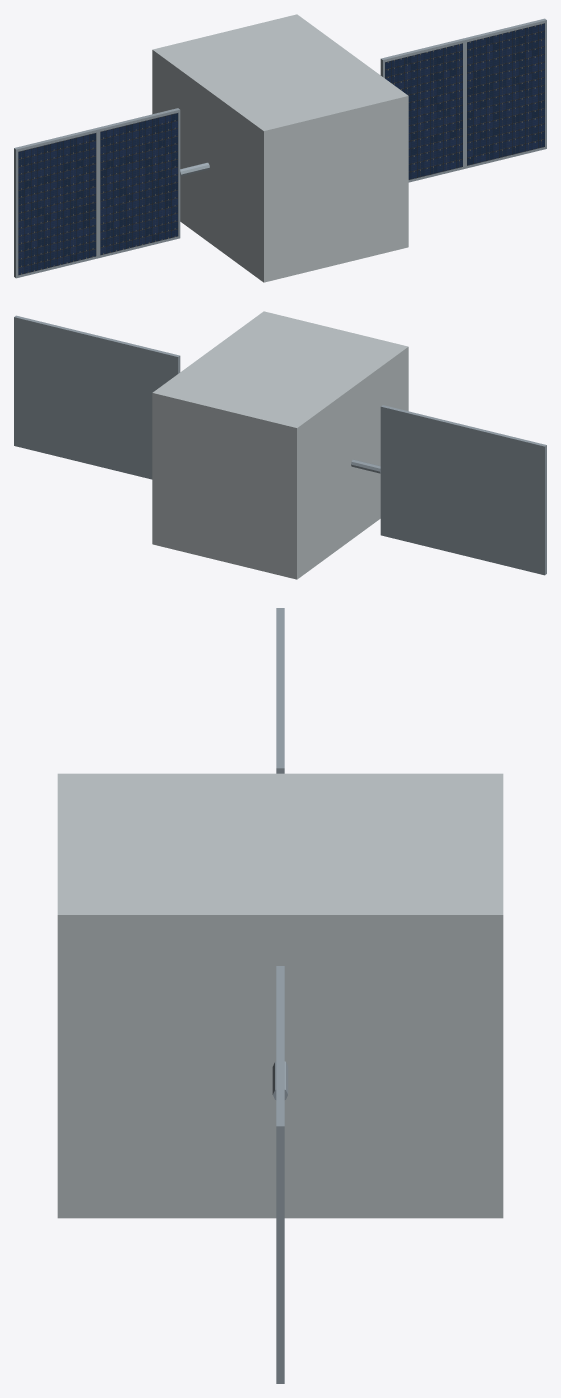
The model's file is ref-fs8-66666.glb.
The picture shows the model from 3 angles, top to bottom: view 1: azimuth 30°, elevation 25°; view 2: azimuth 150°, elevation 25°; view 3: azimuth 270°, elevation 25°; orthographic projection. The views are drawn at different scales.
Visible parts, largest first — view 1: Spacecraft body, Photovoltaic laminates (×4), Array frame (×4); view 2: Spacecraft body, Array frame (×4); view 3: Spacecraft body, Array frame.
Part boxes in pixels (x1=…): Spacecraft body: x1=152, y1=14, x2=408, y2=282; Photovoltaic laminates (×4): x1=18, y1=23, x2=544, y2=275; Array frame (×4): x1=14, y1=18, x2=546, y2=278; Spacecraft body: x1=152, y1=311, x2=408, y2=579; Array frame (×4): x1=14, y1=315, x2=546, y2=575; Spacecraft body: x1=57, y1=773, x2=503, y2=1218; Array frame: x1=276, y1=1046, x2=284, y2=1383.
Bounding box in the file's own units: 4.4 × 1.2 × 1.6.
Materials: 3 (1 with a texture image).
